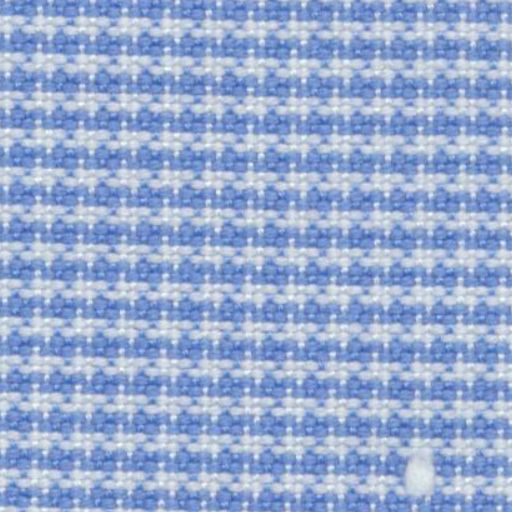MianQiu: (388, 438, 456, 503)
